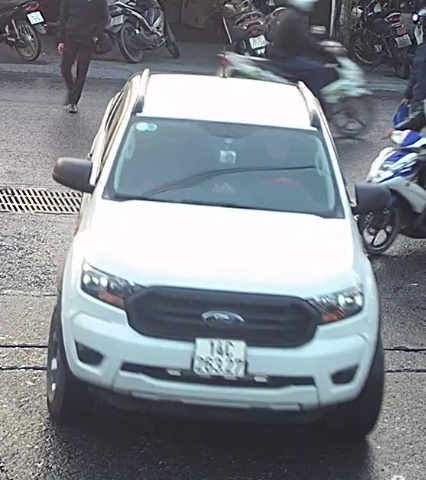vehicle plate: (192, 334, 250, 376)
